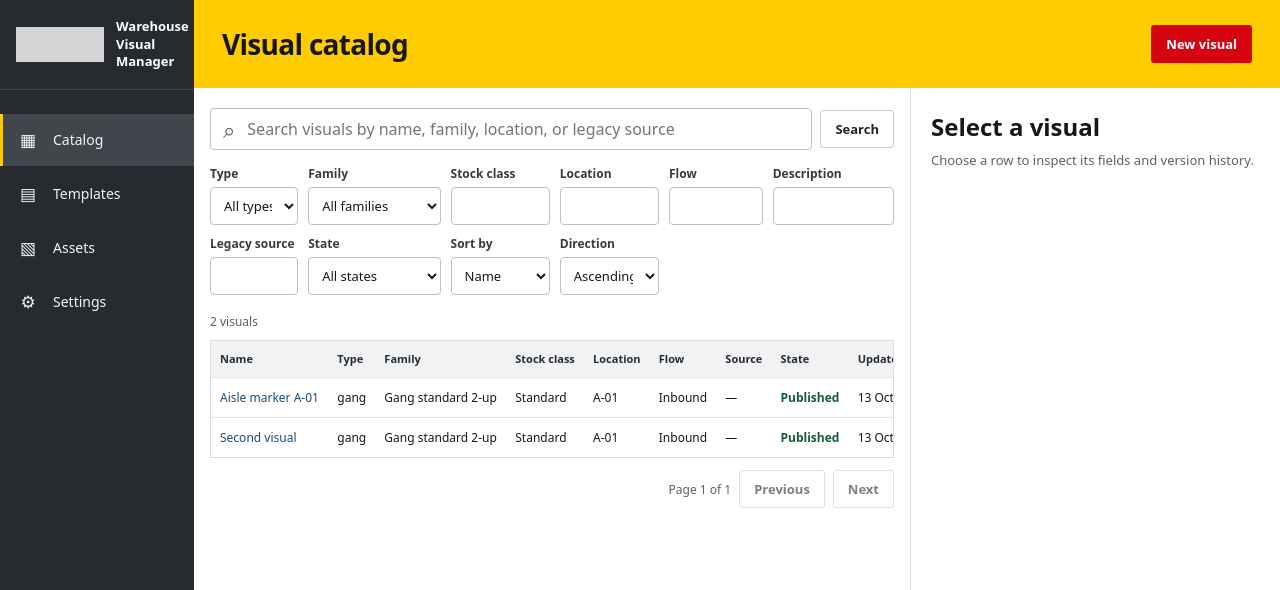
Test: CatalogApp › clears the prior actionable selection while loading a new detail that fails
The image size is (1280, 590).
Step 1. Click the row "Aisle marker A-01" → point(591, 397), box [211,377,971,417]
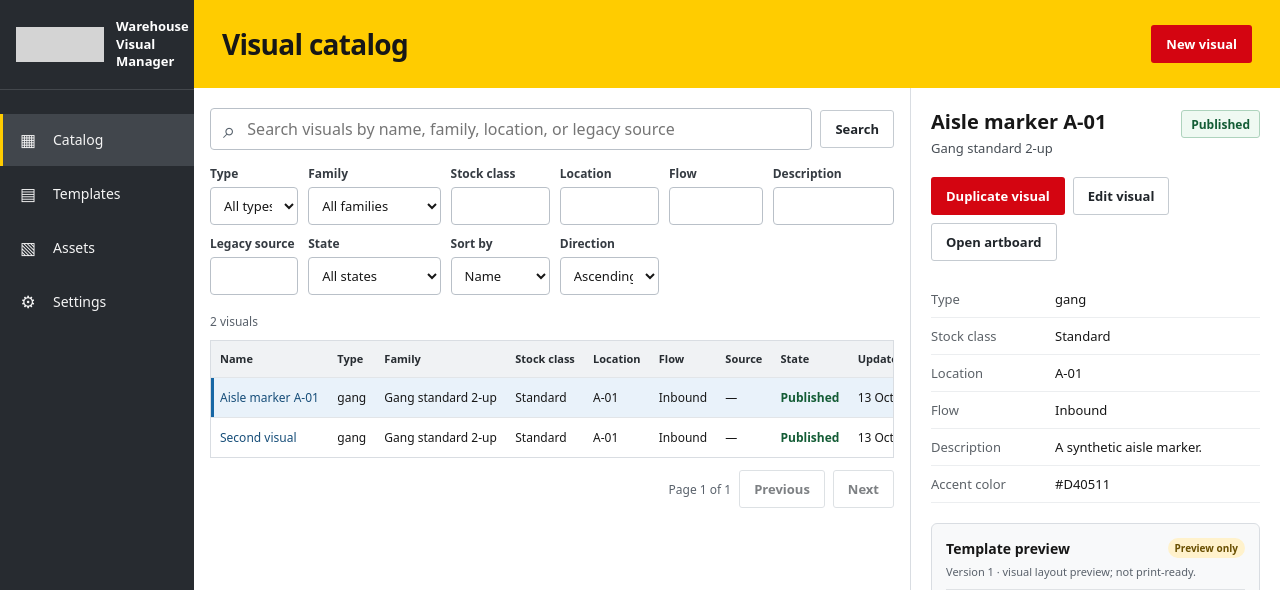
Now the heading "Aisle marker A-01" is shown, box [931,110,1106,134]
Step 2. Click the row "Second visual" → point(591, 437), box [211,417,971,457]
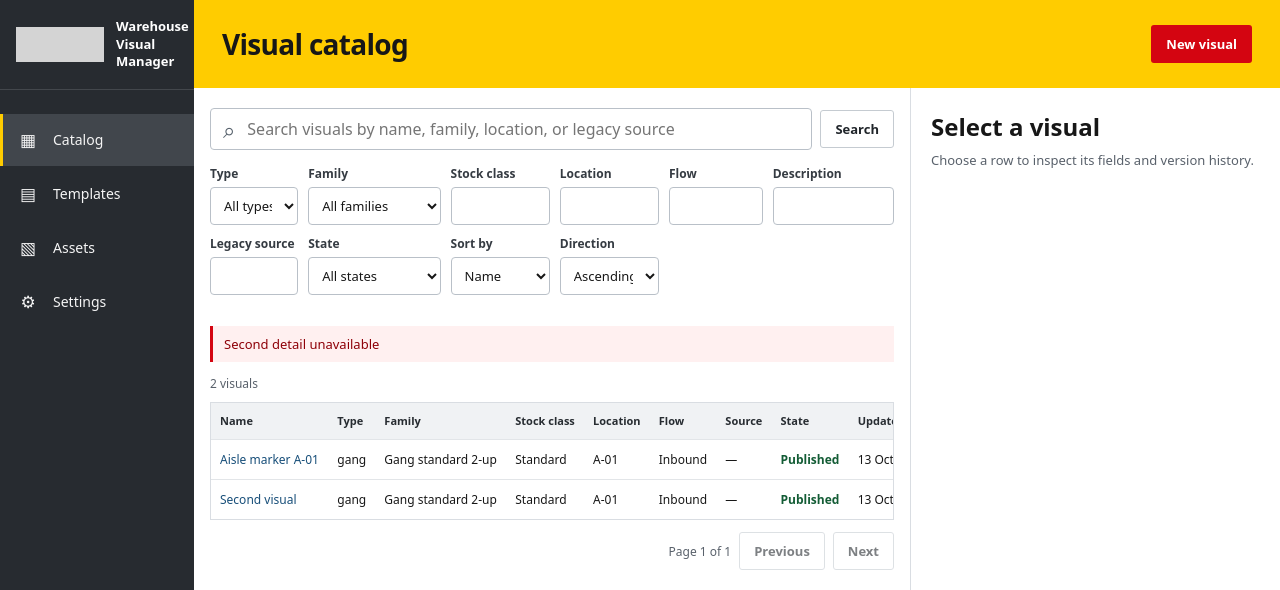
Now the message reads "Second detail unavailable", box [224,335,379,353]
Now the heading "Select a visual" is shown, box [931,110,1100,143]
Now the button "Duplicate visual" is gone
